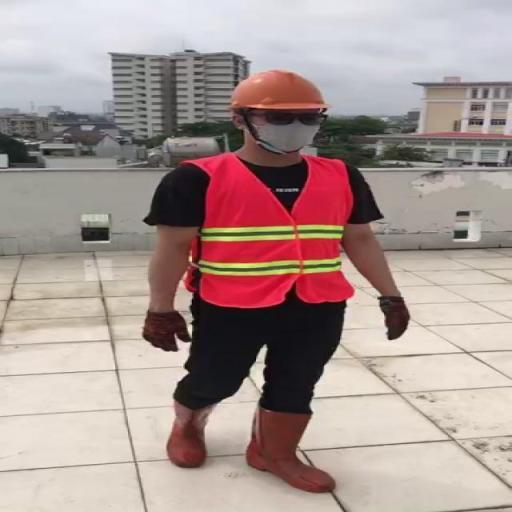Person: (147, 60, 419, 505)
boots: (242, 392, 337, 498), (156, 389, 228, 470)
gloves: (370, 291, 414, 359), (134, 308, 194, 355)
goggles: (242, 104, 331, 124)
helmet: (226, 66, 332, 111)
vest: (176, 146, 360, 308)
